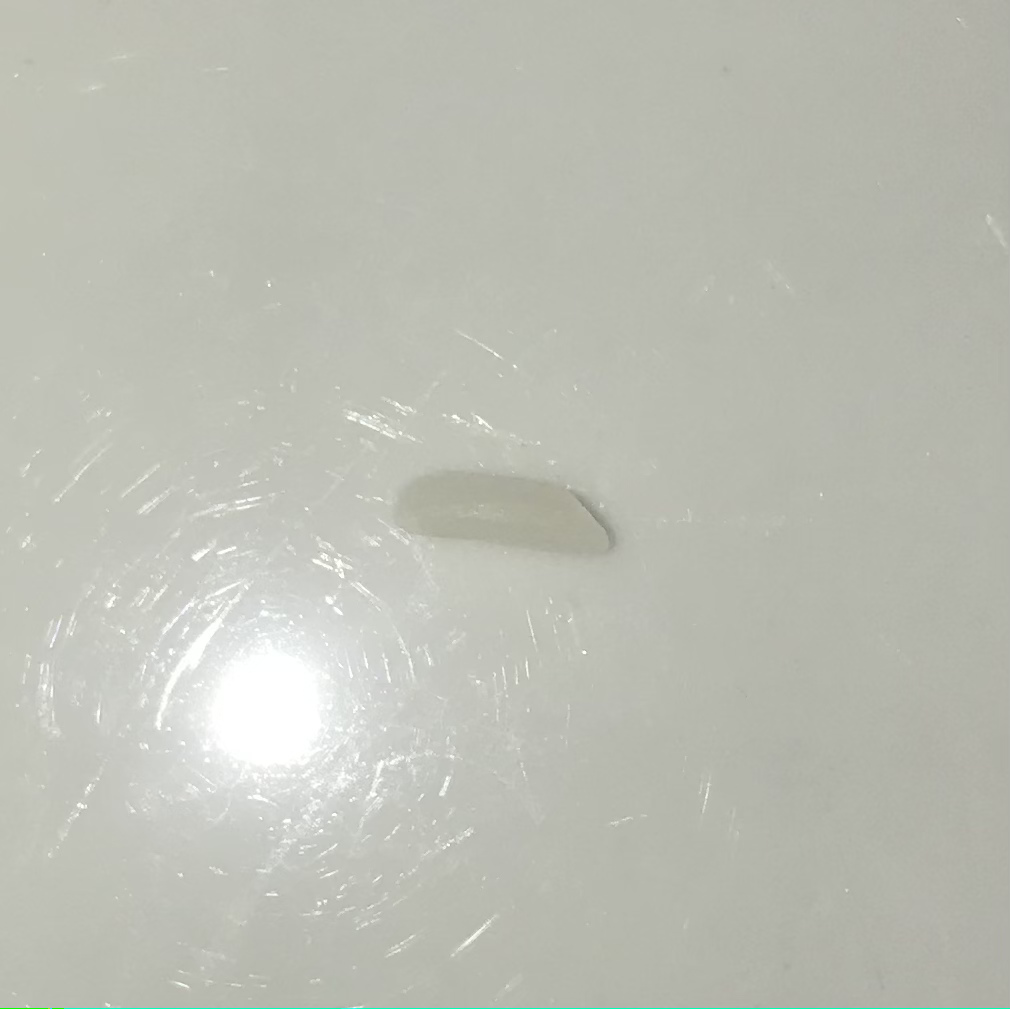Gao Thom Go Cong: (381, 458, 628, 564)
